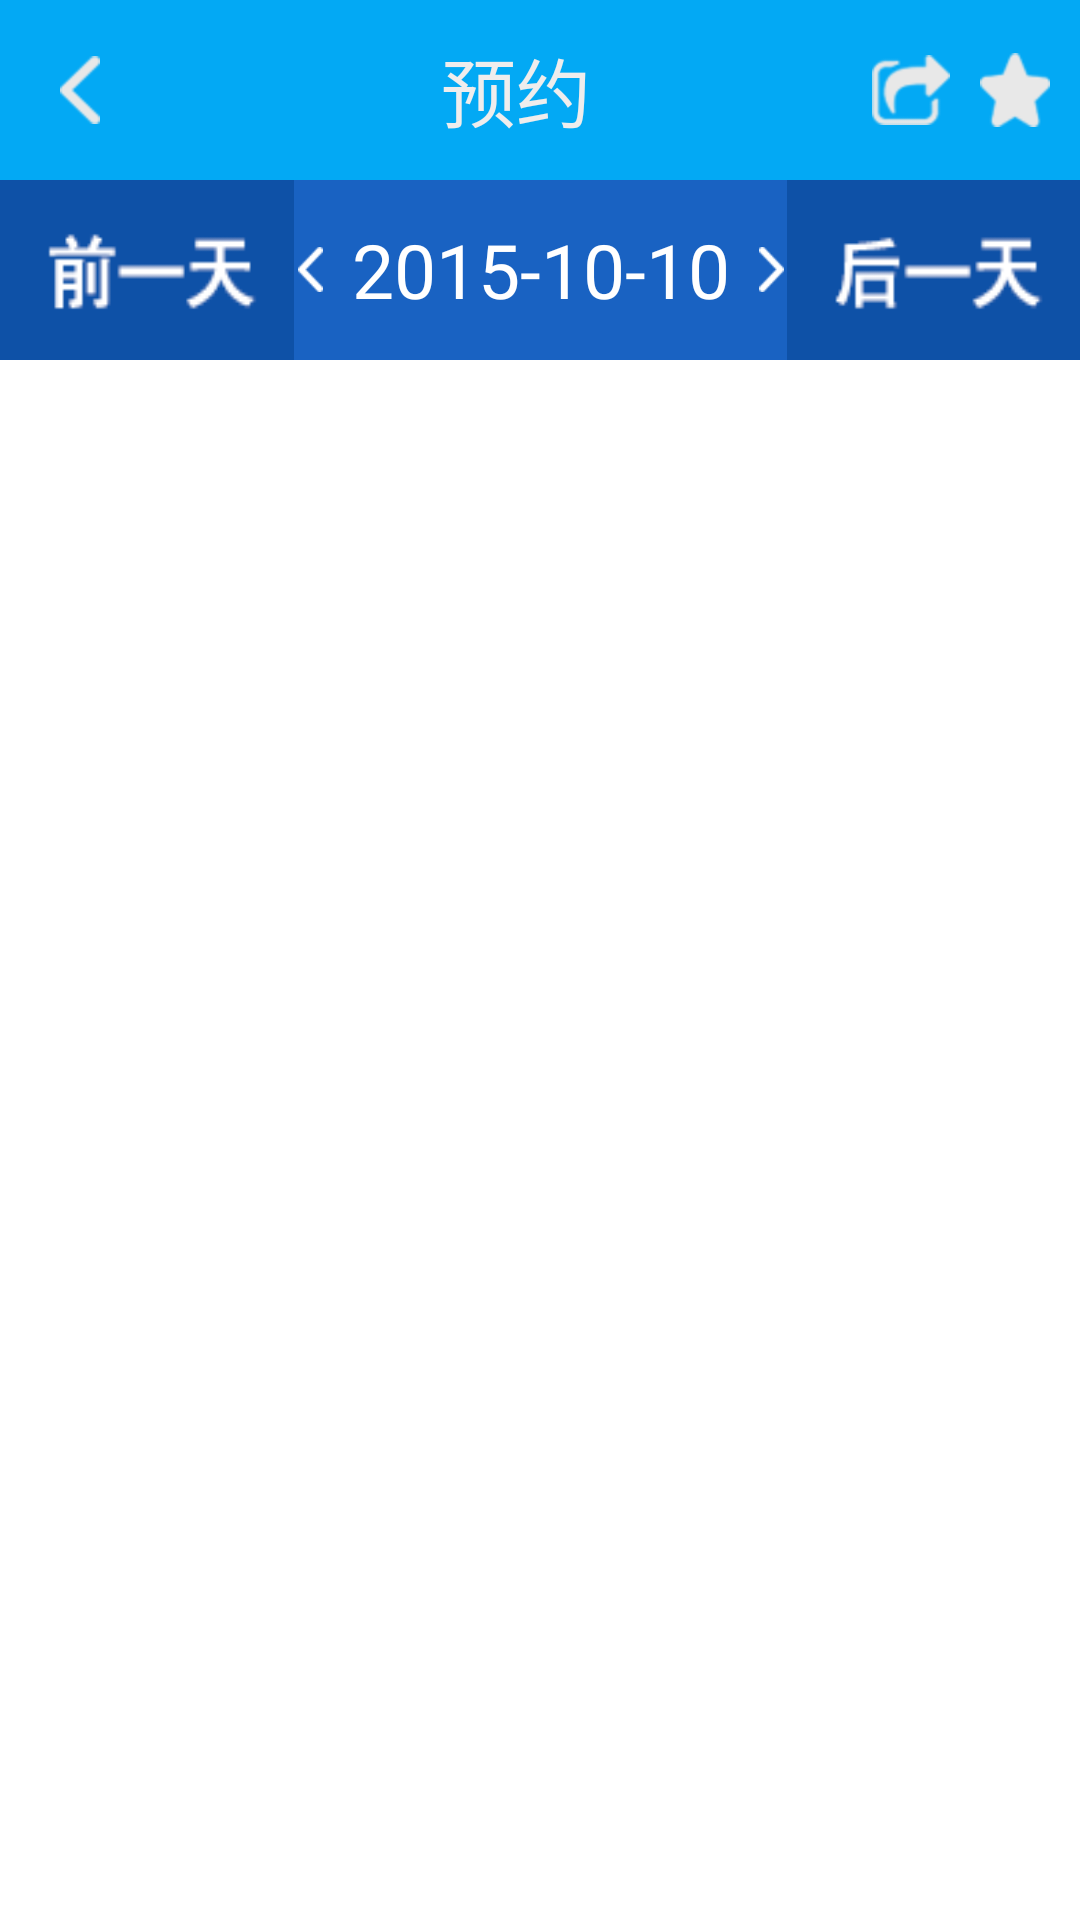

Where icons sit on this 1080 x 1920 app screen, as bbox=[x1, y1, x2, y2]:
arrow left: bbox=[60, 56, 100, 124]
share: bbox=[872, 55, 950, 125]
star: bbox=[980, 53, 1050, 127]
